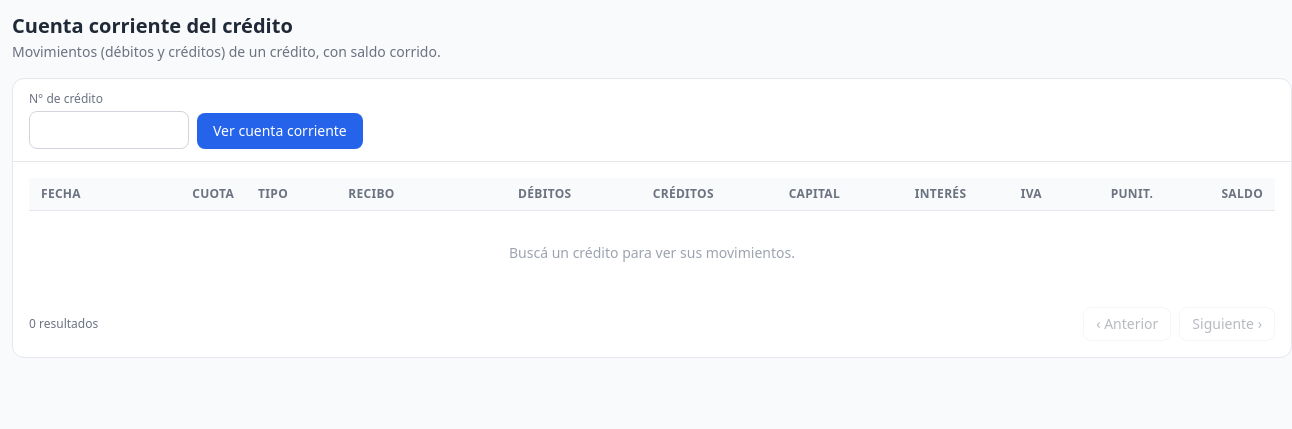
Test case: Cuenta corriente del crédito › sin número de crédito pide uno
This screenshot has width=1292, height=429.
Step 1. Click the button "Ver cuenta corriente" → [280, 131], box top-left (197, 113), bottom-right (363, 149)
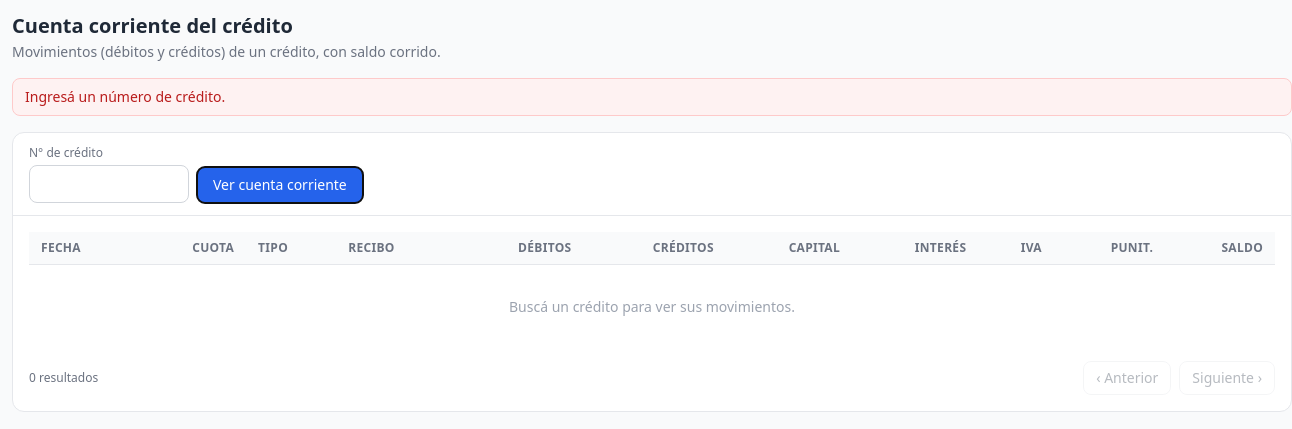
Expected: the text "Ingresá un número de crédito." is shown, top-left (12, 78), bottom-right (1291, 116)
